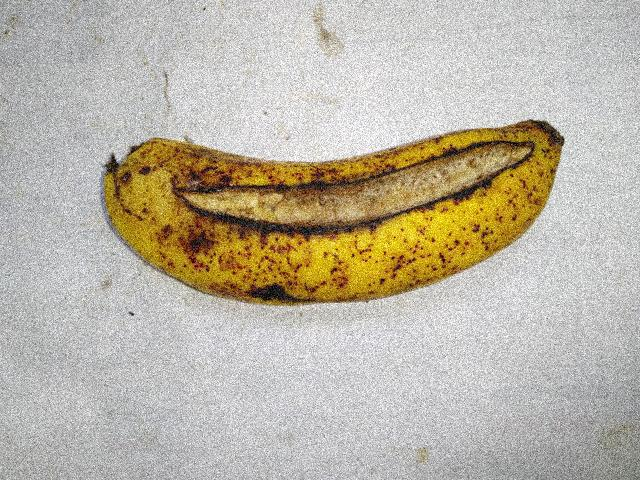ripe: (96, 118, 568, 318)
rotten: (195, 116, 536, 247)
